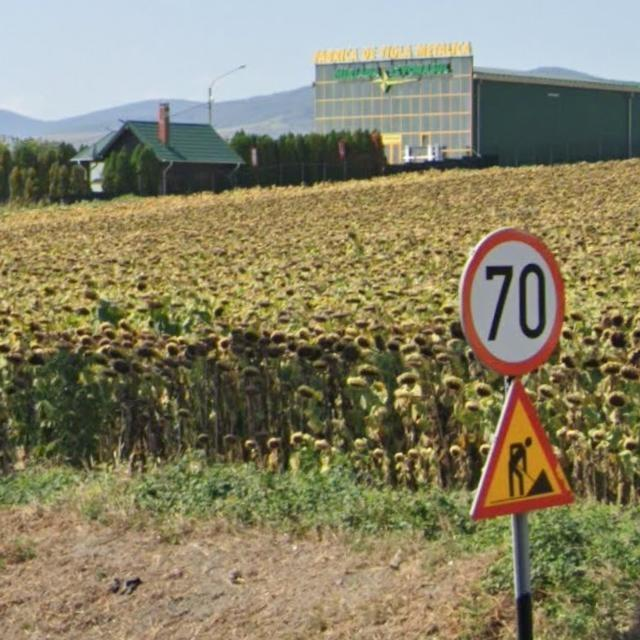forb_speed_over_70: (459, 228, 567, 377)
